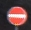No entry: (6, 6, 26, 25)
